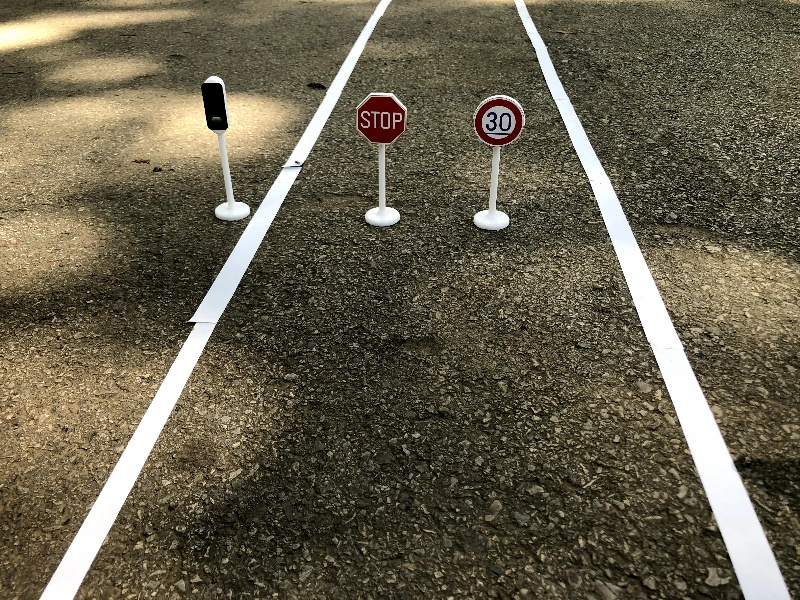Green: (198, 72, 258, 222)
Limit 30: (471, 92, 528, 235)
Stop: (353, 89, 410, 226)
